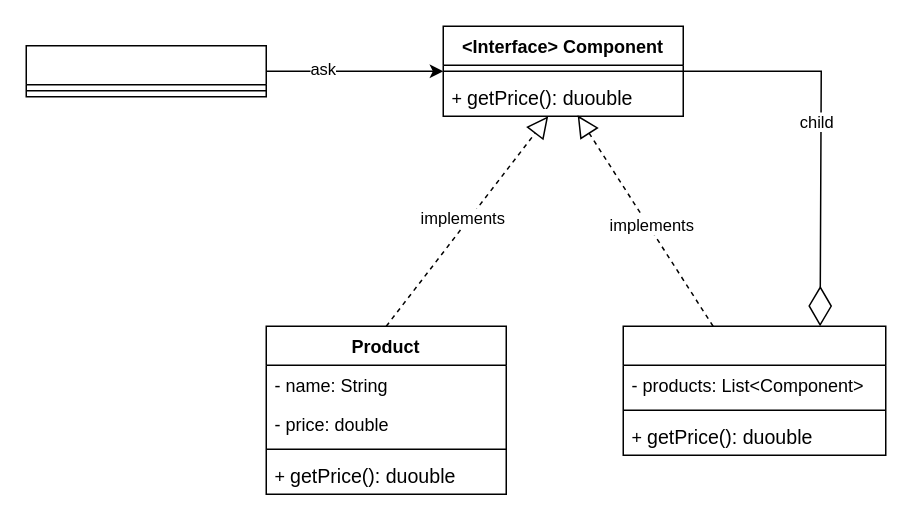
Image size: 912x525. Some labels were removed from this diagram. Each missing label, with the box of its shape:
Coffeeshop: (25, 44, 266, 97)
Table: (622, 325, 886, 455)
